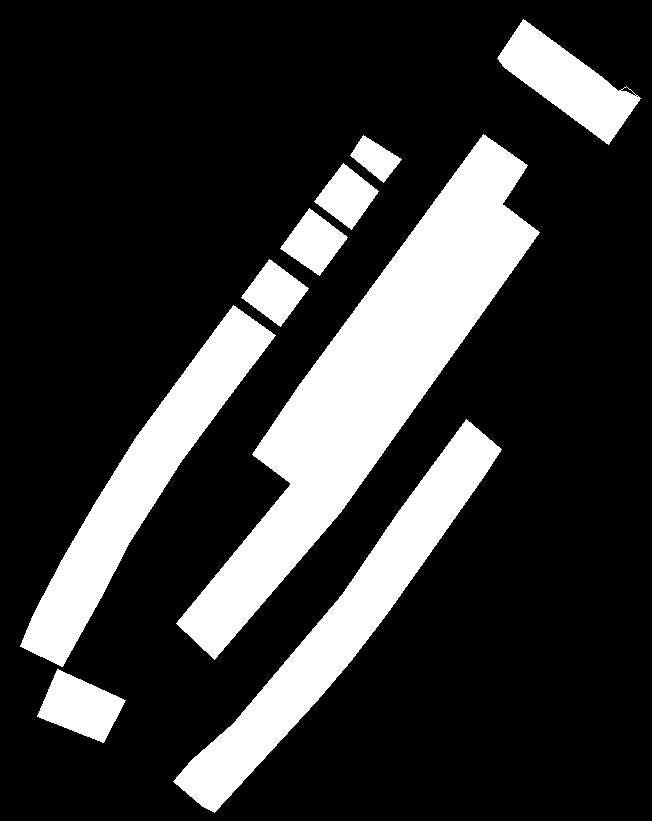parkingspot: (176, 200, 539, 659), (173, 419, 501, 812), (252, 134, 527, 485), (20, 305, 275, 666), (497, 19, 640, 144), (37, 669, 125, 742), (280, 208, 347, 275), (241, 259, 308, 326), (314, 163, 378, 229), (350, 135, 401, 182)
